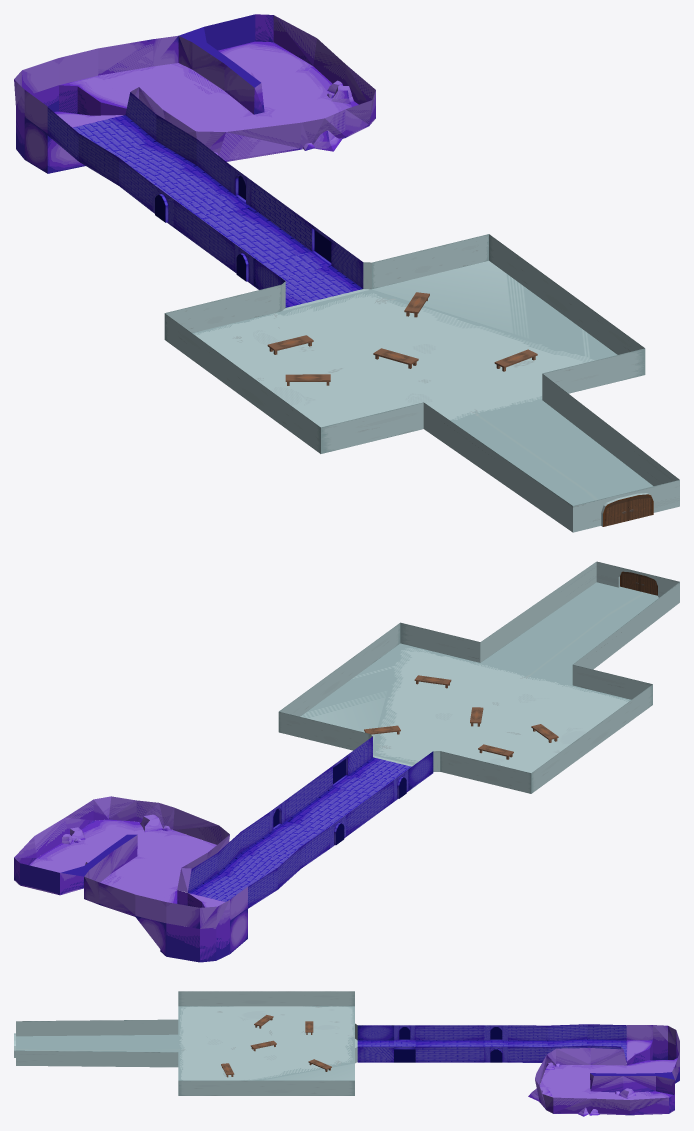
The model's file is NEWCaveInterminadoVer2.glb.
3 views of the same model, one above another, from view 1: azimuth 30°, elevation 25°; view 2: azimuth 150°, elevation 25°; view 3: azimuth 270°, elevation 25° (orthographic). The views are drawn at different scales.
Parts seen in each view (by area): view 1: Refeitorio, Dungeon, CaveWALL, CaveFLOOR, Door, Void, Stones; view 2: Refeitorio, Dungeon, CaveWALL, CaveFLOOR, Door, Stones, Void; view 3: Refeitorio, Dungeon, CaveWALL, CaveFLOOR, Void, Stones.
Boxes of the visible parts, x1,y1,x2,y2 form: Refeitorio: (164,234,679,532); Dungeon: (47,92,363,307); CaveWALL: (14,14,375,160); CaveFLOOR: (16,41,375,173); Door: (603,494,653,526); Void: (155,175,331,281); Stones: (214,72,353,160); Refeitorio: (278,561,679,793); Dungeon: (187,736,433,908); CaveWALL: (14,796,247,928); CaveFLOOR: (14,819,247,962); Door: (620,571,657,595); Stones: (61,814,170,864); Void: (273,759,406,844); Refeitorio: (14,991,357,1095); Dungeon: (357,1024,626,1062); CaveWALL: (535,1025,679,1114); CaveFLOOR: (539,1040,679,1115); Void: (394,1027,502,1062); Stones: (528,1062,635,1116).
Bounding box in the file's own units: 68.27 × 11.69 × 176.
Materials: 16 (16 with a texture image).
